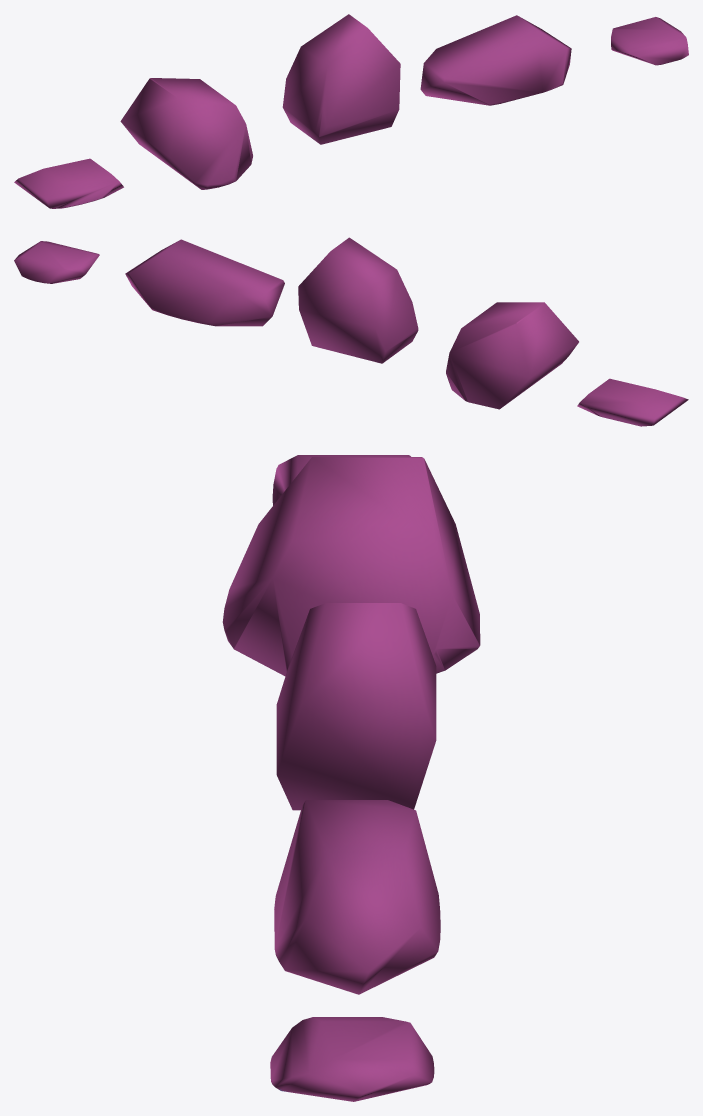
The model's file is Pedras.fbx.
3 views of the same model, one above another, from view 1: azimuth 30°, elevation 25°; view 2: azimuth 150°, elevation 25°; view 3: azimuth 270°, elevation 25° (orthographic). The views are drawn at different scales.
Visible parts, largest first — view 1: Sphere, Sphere.002, Sphere.001, Sphere.004, Sphere.003; view 2: Sphere, Sphere.002, Sphere.001, Sphere.004, Sphere.003; view 3: Sphere.002, Sphere, Sphere.001, Sphere.003, Sphere.004.
Boxes of the visible parts, left/top/right/bottom form: Sphere: left=282, top=14, right=400, bottom=144; Sphere.002: left=120, top=78, right=252, bottom=189; Sphere.001: left=420, top=15, right=571, bottom=105; Sphere.004: left=14, top=158, right=123, bottom=208; Sphere.003: left=611, top=17, right=688, bottom=65; Sphere: left=298, top=237, right=418, bottom=363; Sphere.002: left=446, top=302, right=578, bottom=409; Sphere.001: left=125, top=239, right=284, bottom=326; Sphere.004: left=577, top=378, right=688, bottom=426; Sphere.003: left=14, top=241, right=99, bottom=283; Sphere.002: left=222, top=457, right=480, bottom=676; Sphere: left=276, top=603, right=436, bottom=810; Sphere.001: left=274, top=800, right=440, bottom=994; Sphere.003: left=270, top=1017, right=434, bottom=1101; Sphere.004: left=272, top=455, right=410, bottom=505.
Bounding box in the file's own units: 94.31 × 13.69 × 16.21.
Materials: 5 (5 with a texture image).
